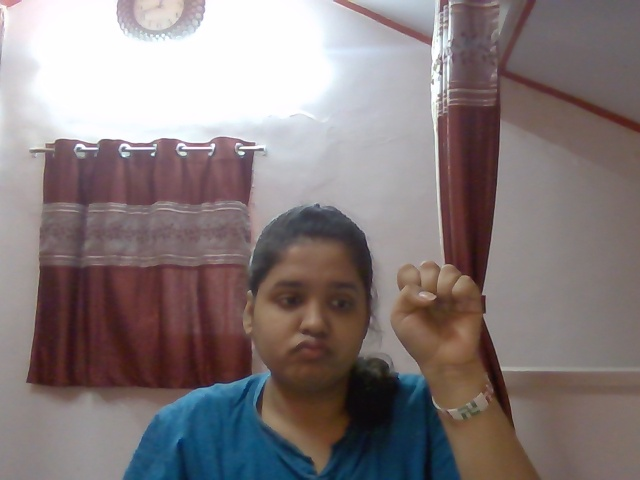s: (384, 252, 494, 363)
